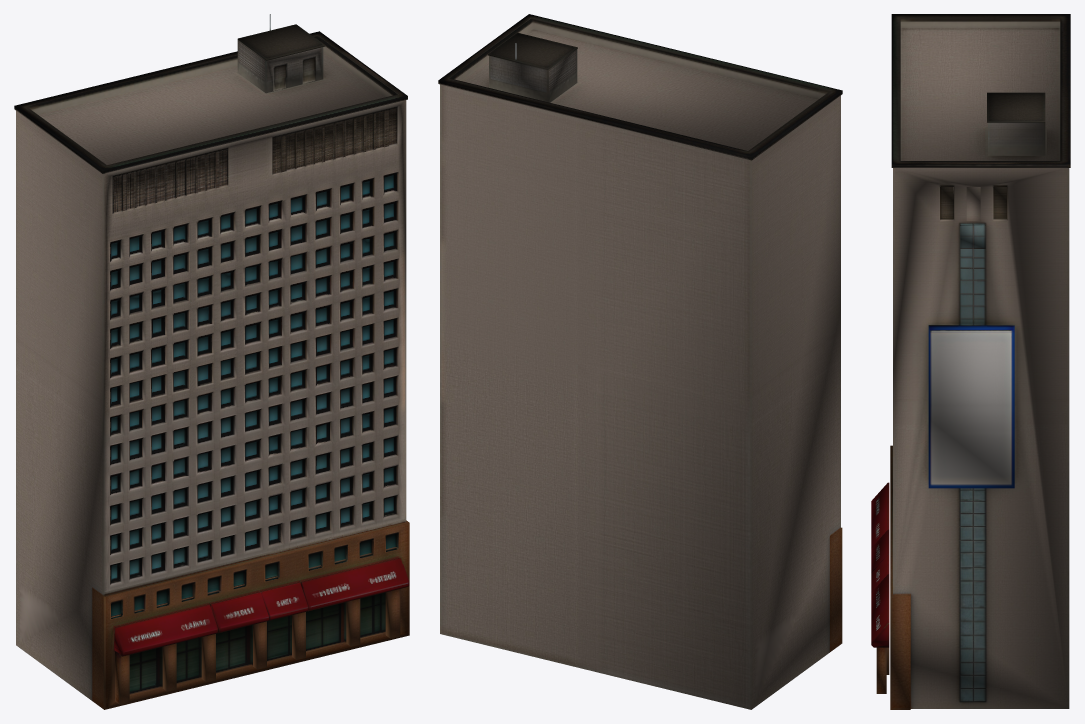
Rendered from office_building_3d_model_2.fbx.
The picture shows the model from 3 angles, left to right: view 1: azimuth 30°, elevation 25°; view 2: azimuth 150°, elevation 25°; view 3: azimuth 270°, elevation 25°; orthographic projection. The views are drawn at different scales.
Visible parts, largest first — view 1: tripo_node_2cde9816; view 2: tripo_node_2cde9816; view 3: tripo_node_2cde9816.
Boxes of the visible parts, x1,y1,x2,y2 form: tripo_node_2cde9816: [14, 14, 409, 709]; tripo_node_2cde9816: [438, 14, 842, 709]; tripo_node_2cde9816: [871, 14, 1070, 709].
Bounding box in the file's own units: 0.5684 × 0.998 × 0.3066.
